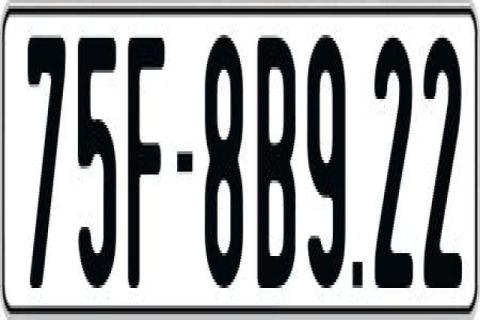0: (204, 32, 248, 291), (306, 29, 350, 282), (424, 29, 467, 282), (374, 38, 414, 297), (77, 32, 116, 282), (26, 35, 64, 291)
B: (257, 29, 296, 297)
F: (128, 38, 164, 294)
